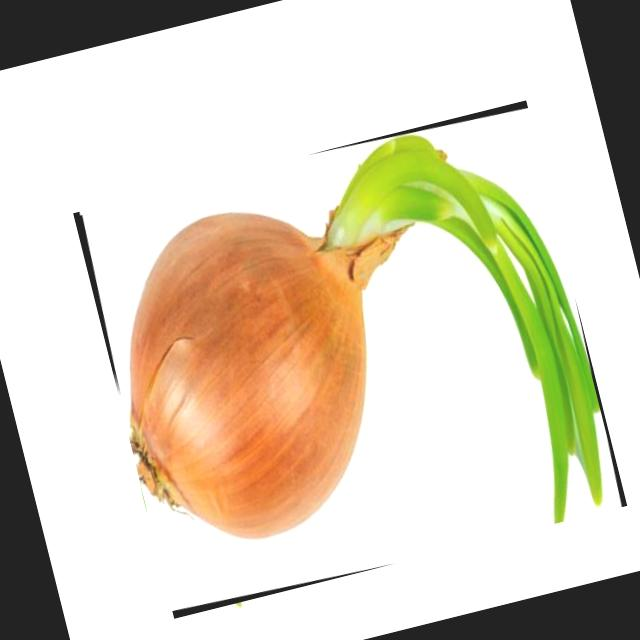sprouting: (128, 134, 600, 536)
